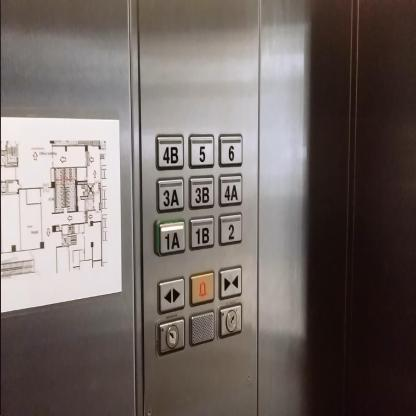1A: (154, 218, 185, 258)
1B: (188, 213, 215, 252)
2: (217, 211, 242, 247)
3A: (155, 175, 185, 214)
3B: (187, 172, 215, 212)
4A: (217, 171, 243, 207)
4B: (154, 132, 184, 172)
5: (187, 131, 215, 170)
6: (217, 132, 244, 168)
alarm: (188, 266, 216, 308)
bt_keyhole: (155, 313, 186, 360), (216, 300, 243, 341)
close: (218, 262, 244, 301)
open: (156, 274, 186, 316)
speaker: (188, 306, 216, 348)
